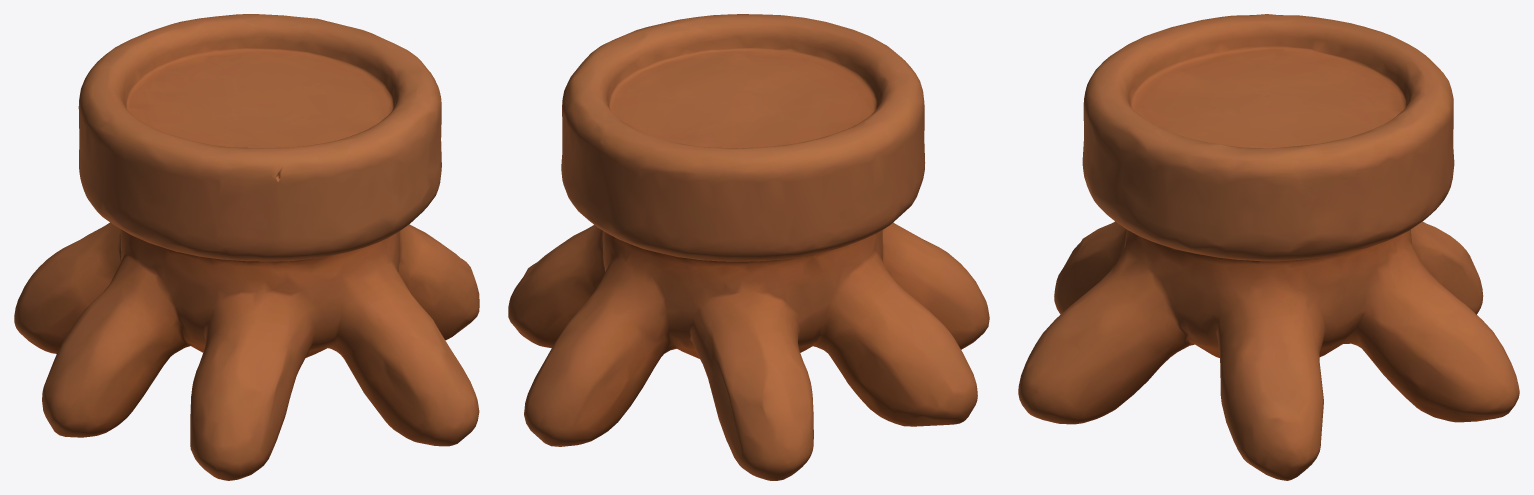
Rendered from legs.glb.
The picture shows the model from 3 angles, left to right: view 1: azimuth 30°, elevation 25°; view 2: azimuth 150°, elevation 25°; view 3: azimuth 270°, elevation 25°; orthographic projection.
Visible parts, largest first — view 1: tripo_node_85add93b-8c24-41b6-91e6-b53139bdb0c3; view 2: tripo_node_85add93b-8c24-41b6-91e6-b53139bdb0c3; view 3: tripo_node_85add93b-8c24-41b6-91e6-b53139bdb0c3.
Part boxes in pixels (left/top/right/bottom): tripo_node_85add93b-8c24-41b6-91e6-b53139bdb0c3: left=14, top=14, right=479, bottom=480; tripo_node_85add93b-8c24-41b6-91e6-b53139bdb0c3: left=508, top=14, right=989, bottom=480; tripo_node_85add93b-8c24-41b6-91e6-b53139bdb0c3: left=1018, top=14, right=1519, bottom=480.
Bounding box in the file's own units: 1 × 0.6369 × 0.9811.
1 material, 1 textured.
